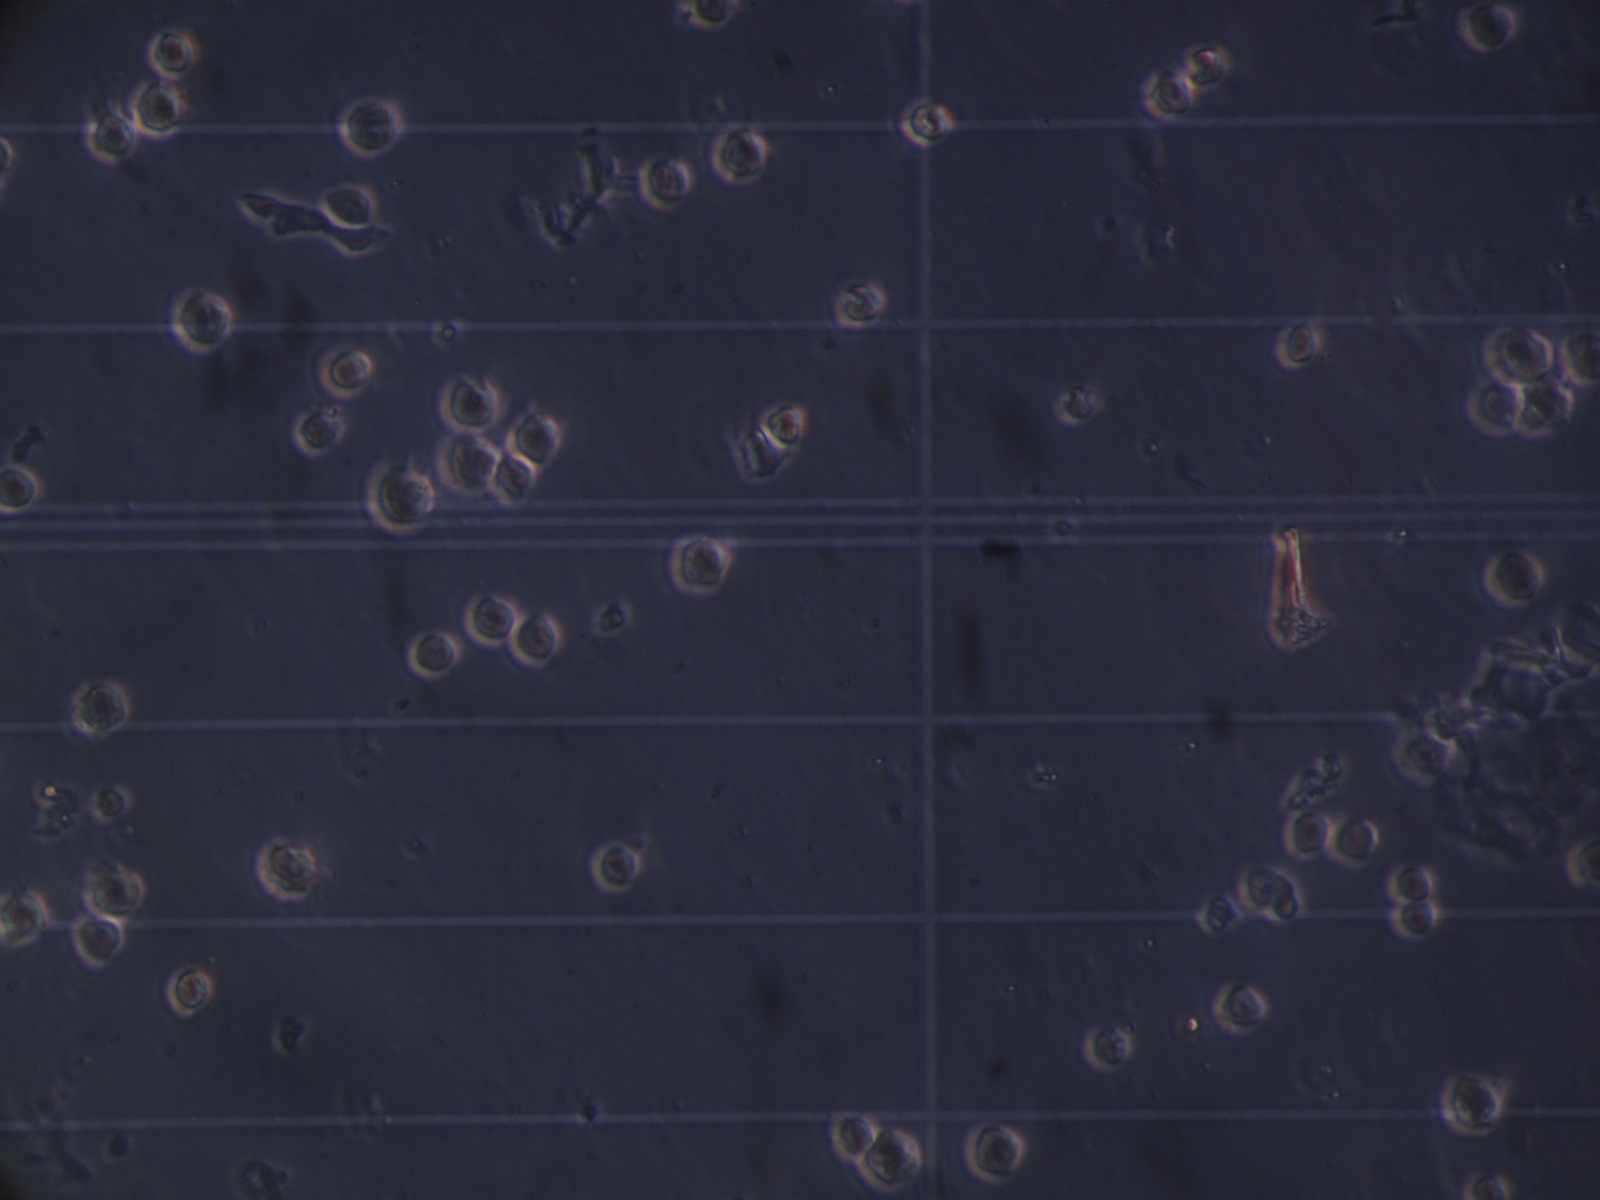hemo: (362, 455, 435, 539), (1482, 323, 1553, 391), (1437, 1070, 1506, 1139), (855, 1127, 922, 1194), (435, 431, 501, 497), (169, 287, 232, 355), (254, 837, 317, 903), (338, 97, 404, 159), (668, 534, 731, 597), (964, 1122, 1024, 1186), (1484, 548, 1545, 610), (711, 121, 767, 187), (69, 677, 130, 737), (438, 374, 499, 434), (508, 609, 566, 671), (1517, 378, 1574, 441), (1466, 377, 1524, 437), (126, 81, 183, 142), (82, 866, 146, 920), (1325, 812, 1380, 872), (506, 412, 561, 471), (1213, 981, 1267, 1039), (317, 342, 372, 400), (637, 154, 690, 212), (1235, 863, 1296, 913), (71, 915, 125, 971), (464, 592, 517, 649), (1400, 730, 1453, 784), (86, 110, 139, 164), (1, 889, 48, 949), (1459, 3, 1516, 52), (320, 182, 378, 229), (489, 450, 535, 509), (1283, 809, 1334, 862), (590, 841, 641, 894), (407, 629, 459, 682), (294, 407, 346, 458), (164, 964, 214, 1016), (1141, 71, 1194, 120), (902, 100, 956, 147), (758, 398, 805, 453), (147, 28, 194, 81), (837, 280, 886, 329), (1183, 42, 1230, 93), (1085, 1025, 1134, 1073), (830, 1111, 876, 1162), (1385, 862, 1440, 904), (1562, 329, 1600, 388), (1276, 321, 1320, 371), (1387, 901, 1437, 942), (1, 464, 40, 516), (1565, 837, 1600, 892), (1053, 384, 1101, 425), (93, 782, 131, 824), (678, 1, 736, 29), (1461, 1171, 1514, 1200), (1267, 892, 1303, 926)
